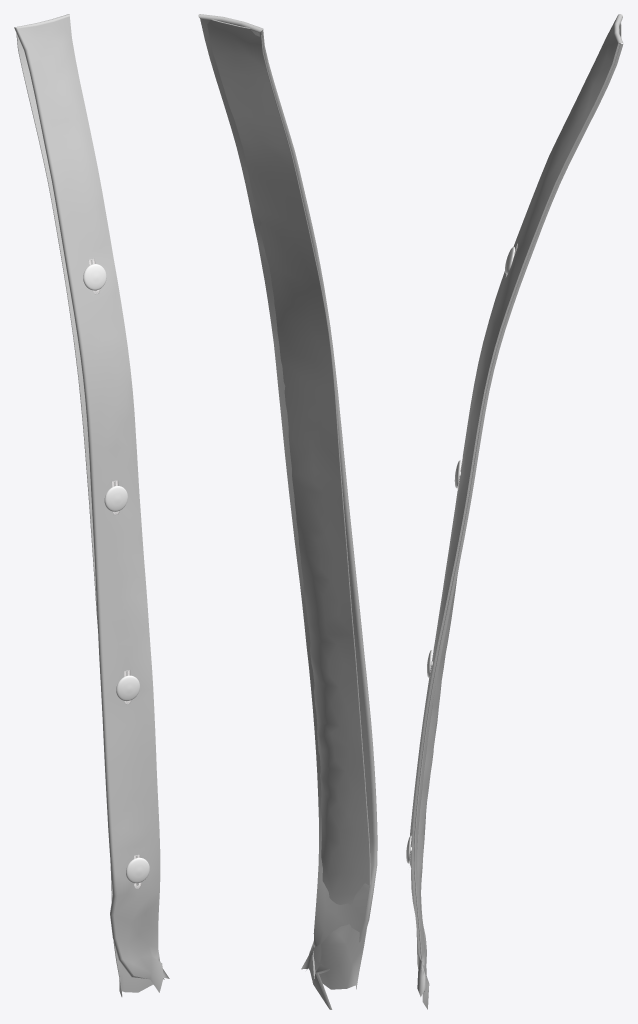
File: French_Placket.glb
The picture shows the model from 3 angles, left to right: view 1: azimuth 30°, elevation 25°; view 2: azimuth 150°, elevation 25°; view 3: azimuth 270°, elevation 25°; orthographic projection. The views are drawn at different scales.
Visible parts, largest first — view 1: Wide_Front_placket_Node001.001, Wide_Front_placket_Node.001, button002.001, button004.001, button004.002, button003.002; view 2: Wide_Front_placket_Node.001, Wide_Front_placket_Node001.001; view 3: Wide_Front_placket_Node001.001, Wide_Front_placket_Node.001.
Boxes of the visible parts, bbox=[...] form: Wide_Front_placket_Node001.001: bbox=[14, 14, 169, 992]; Wide_Front_placket_Node.001: bbox=[16, 33, 153, 996]; button002.001: bbox=[83, 264, 106, 290]; button004.001: bbox=[116, 675, 139, 701]; button004.002: bbox=[126, 857, 149, 883]; button003.002: bbox=[104, 486, 127, 511]; Wide_Front_placket_Node.001: bbox=[207, 19, 370, 989]; Wide_Front_placket_Node001.001: bbox=[198, 14, 377, 1009]; Wide_Front_placket_Node001.001: bbox=[409, 14, 623, 1009]; Wide_Front_placket_Node.001: bbox=[414, 21, 621, 991].
Size of the model in its own units: 3.46 by 48.47 by 9.75.
7 materials, 5 textured.
